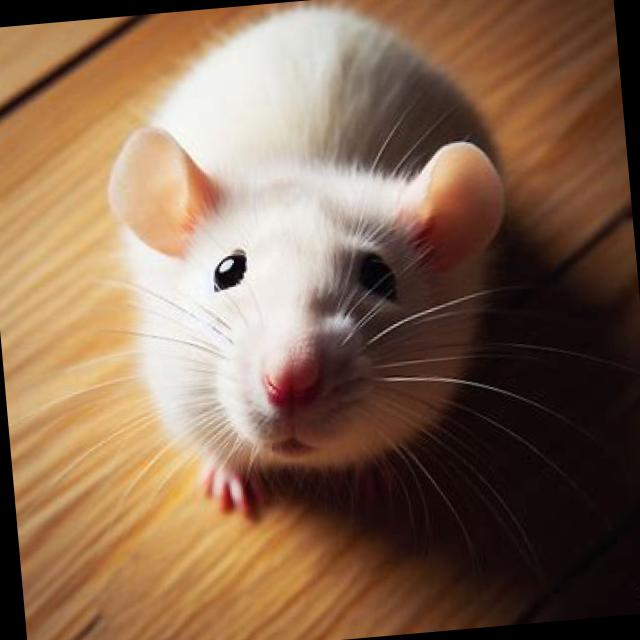rodent: (58, 0, 556, 568)
